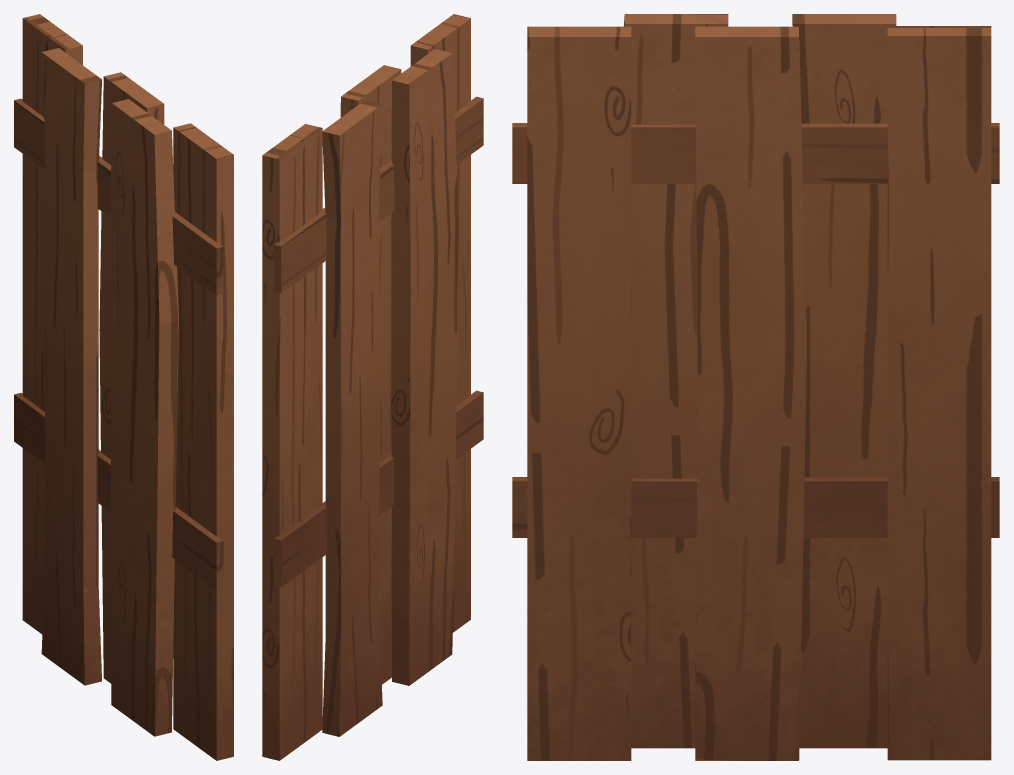
Rendered from Tuinhek_V1.fbx.
3 renders of one model, left to right at view 1: azimuth 30°, elevation 25°; view 2: azimuth 150°, elevation 25°; view 3: azimuth 270°, elevation 25°, orthographic. The views are drawn at different scales.
Parts seen in each view (by area): view 1: Cube.021; view 2: Cube.021; view 3: Cube.021.
Part boxes in pixels (box(x1,y1,x2,y2)): Cube.021: box(14, 14, 233, 760); Cube.021: box(262, 14, 483, 760); Cube.021: box(512, 14, 999, 760).
Bounding box in the file's own units: 42.1 × 590 × 360.
1 material, 1 textured.
